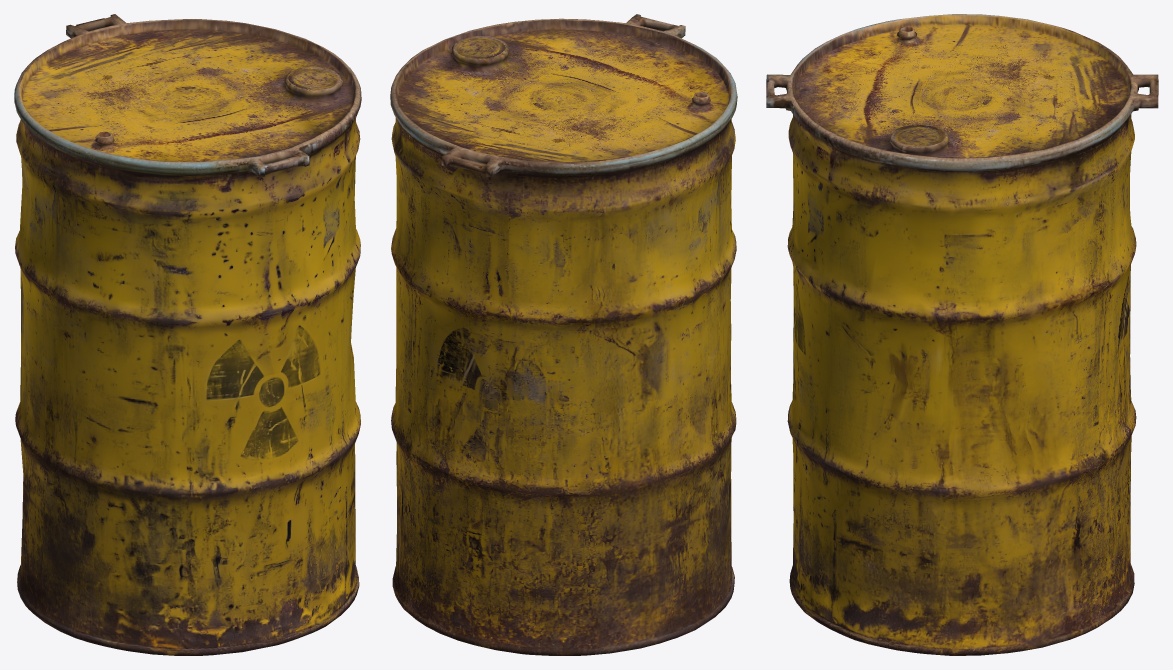
File: sm_henengyuanliao.fbx
3 views of the same model, side by side, from view 1: azimuth 30°, elevation 25°; view 2: azimuth 150°, elevation 25°; view 3: azimuth 270°, elevation 25° (orthographic).
Parts seen in each view (by area): view 1: mesh_node; view 2: mesh_node; view 3: mesh_node.
Boxes of the visible parts, x1,y1,x2,y2 form: mesh_node: (14, 14, 361, 655); mesh_node: (390, 14, 737, 655); mesh_node: (766, 14, 1158, 655).
Bounding box in the file's own units: 1.25 × 1.97 × 1.4.
